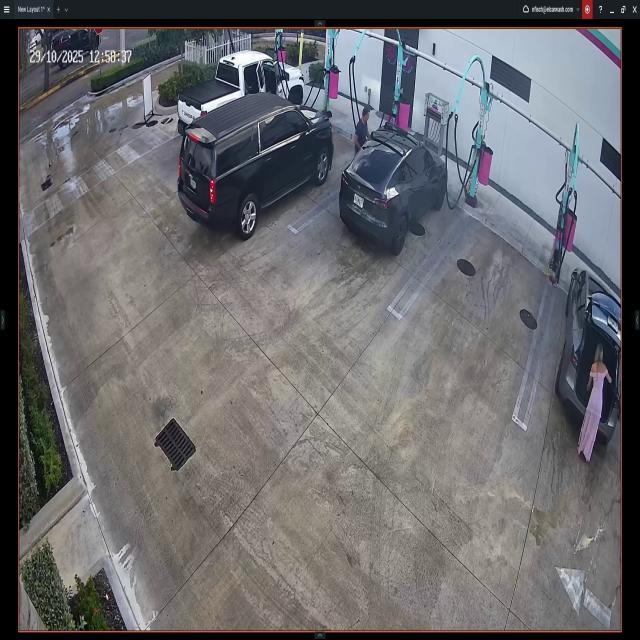Car: (179, 102, 334, 243), (340, 126, 446, 252), (178, 51, 304, 145), (557, 268, 620, 441)
